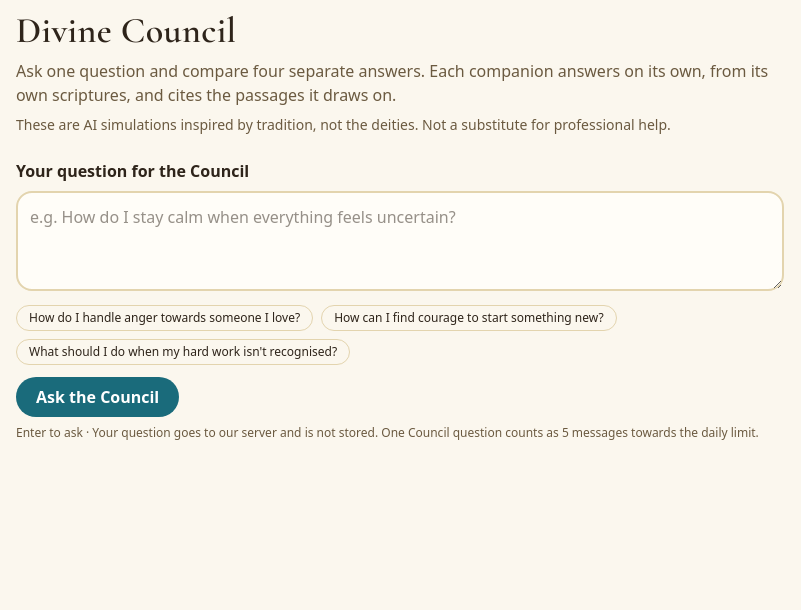
Scenario: Divine Council › shows one support reply for a crisis message, and a friendly error for empty questions
What coordinates should you click on to do the following:
click the button "Ask the Council"
I would click on:
 (98, 397)
Its box is x1=16 y1=377 x2=179 y2=417.
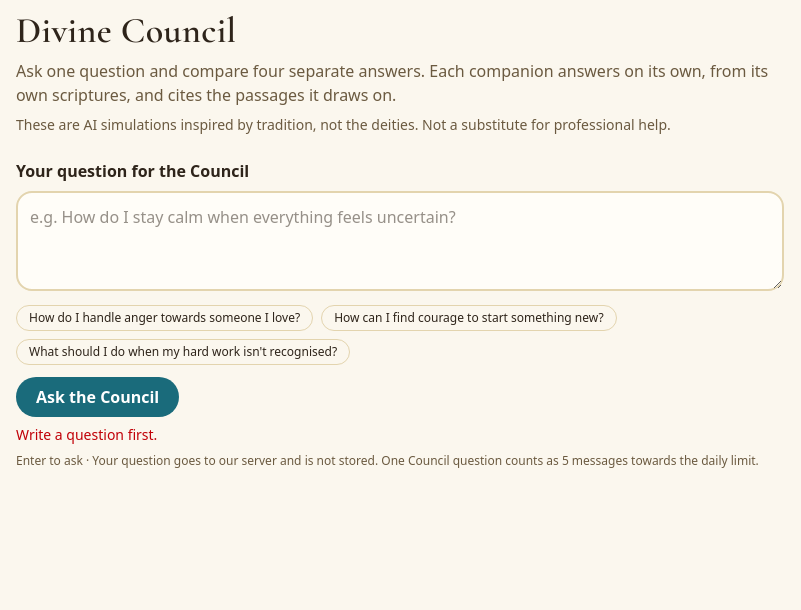
Check: the message reads "Write a question first.", box x1=16 y1=425 x2=157 y2=444
What coordinates should you click on to do the following:
click the button "How do I handle anger towards someone I love?"
I would click on:
 (165, 318)
Its box is x1=16 y1=305 x2=313 y2=331.
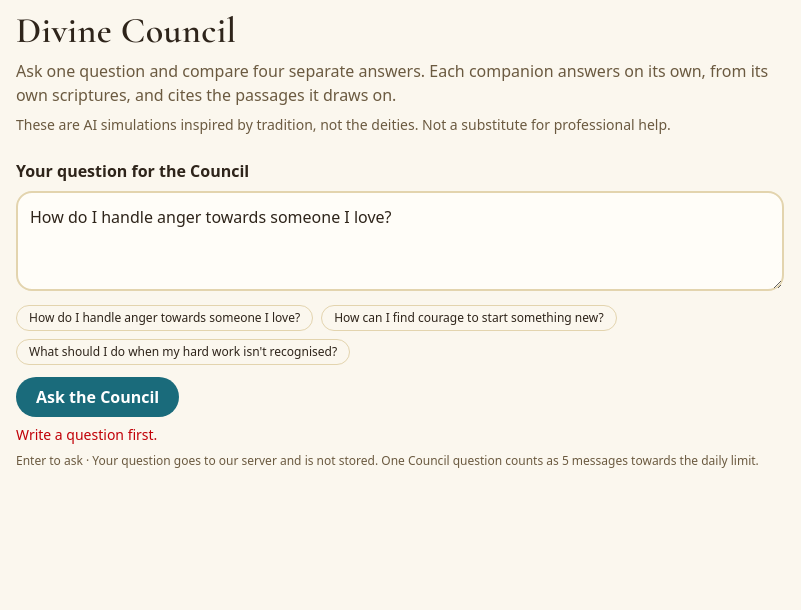
What coordinates should you click on to do the following:
click the button "Ask the Council"
I would click on:
 (98, 397)
Its box is x1=16 y1=377 x2=179 y2=417.
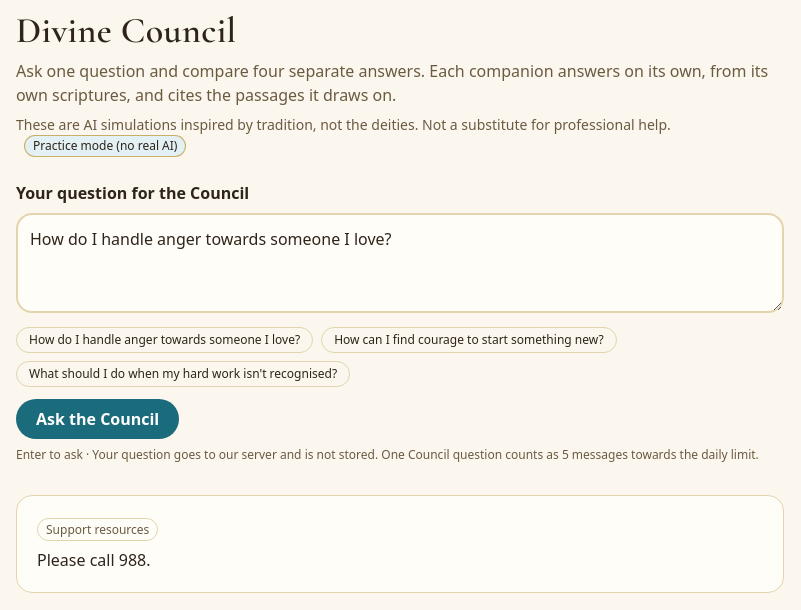
Check: the text "Please call 988." is shown, box x1=37 y1=549 x2=150 y2=571
